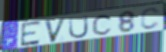8: (117, 10, 137, 33)
C: (139, 7, 162, 31), (91, 13, 114, 37)
E: (20, 19, 43, 48)
U: (68, 14, 90, 40)
V: (43, 17, 67, 44)
